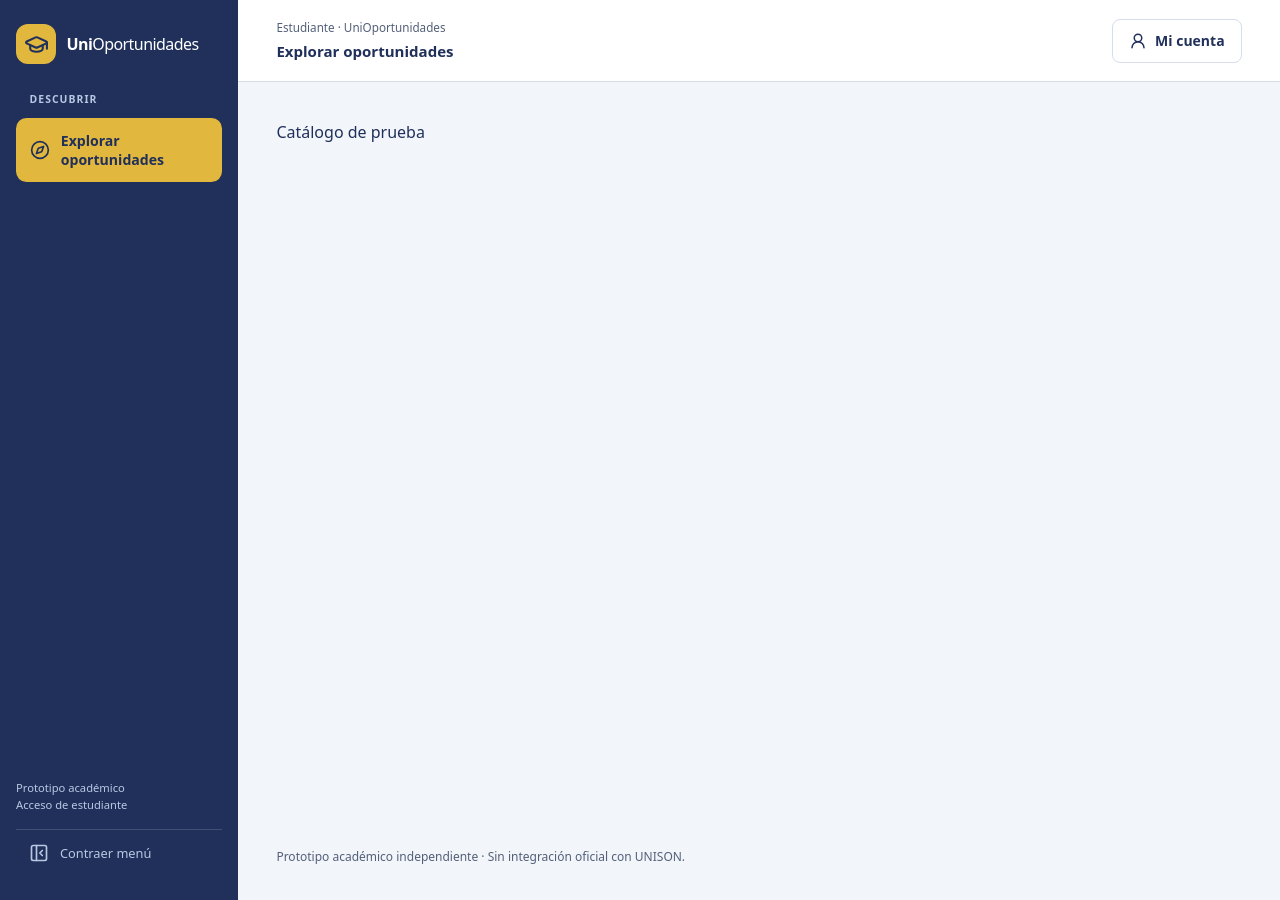
Scenario: cuenta muestra solo datos existentes y permite cerrar sesión sin página de perfil
Click the button "Mi cuenta".
click(1177, 40)  # box [1112,18,1242,62]
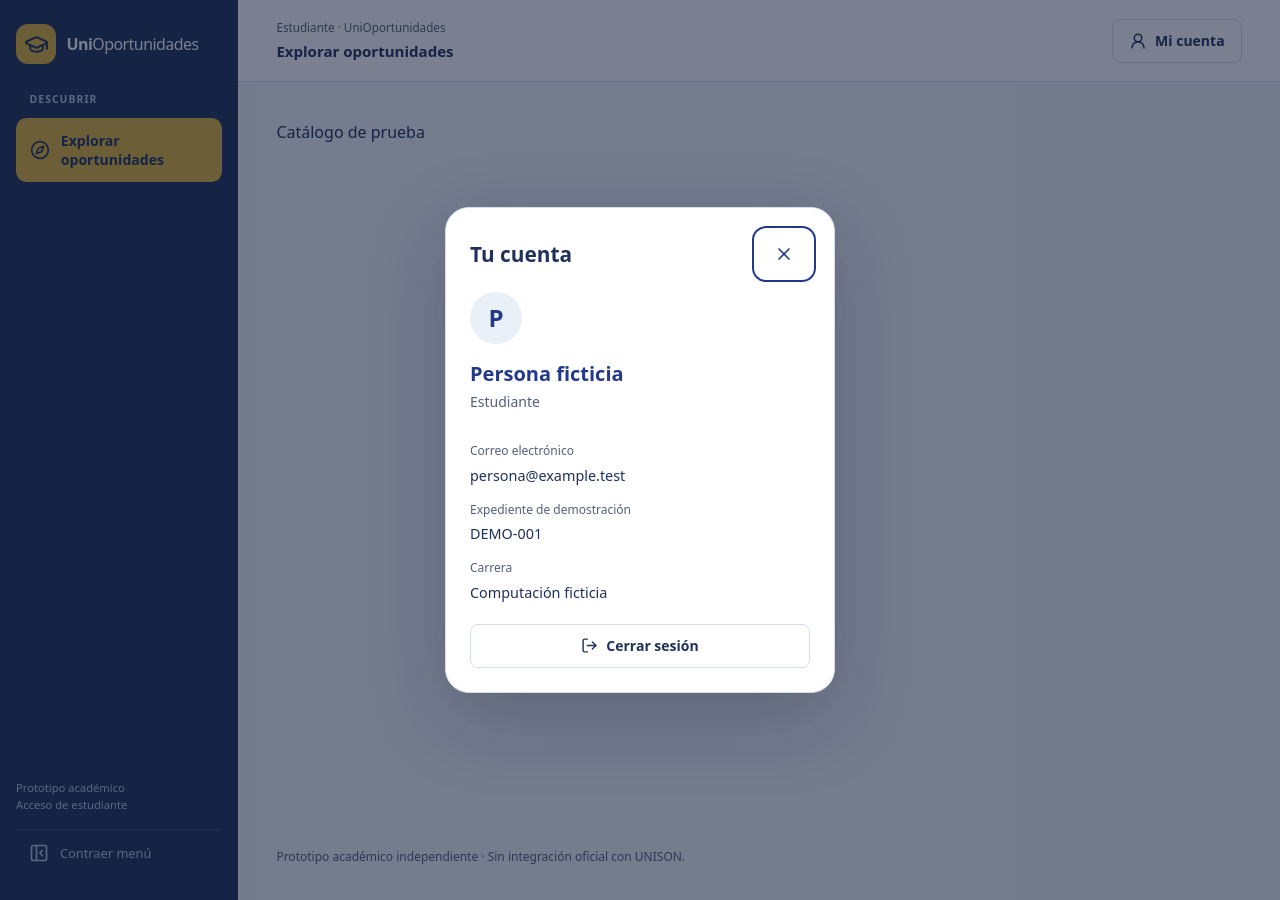
Expected: the text "DEMO-001" is shown, [470,524,542,543]
Expected: the text "persona@example.test" is shown, [470,466,625,485]
Click the button "Cerrar sesión".
click(640, 646)  # box [470,624,810,668]
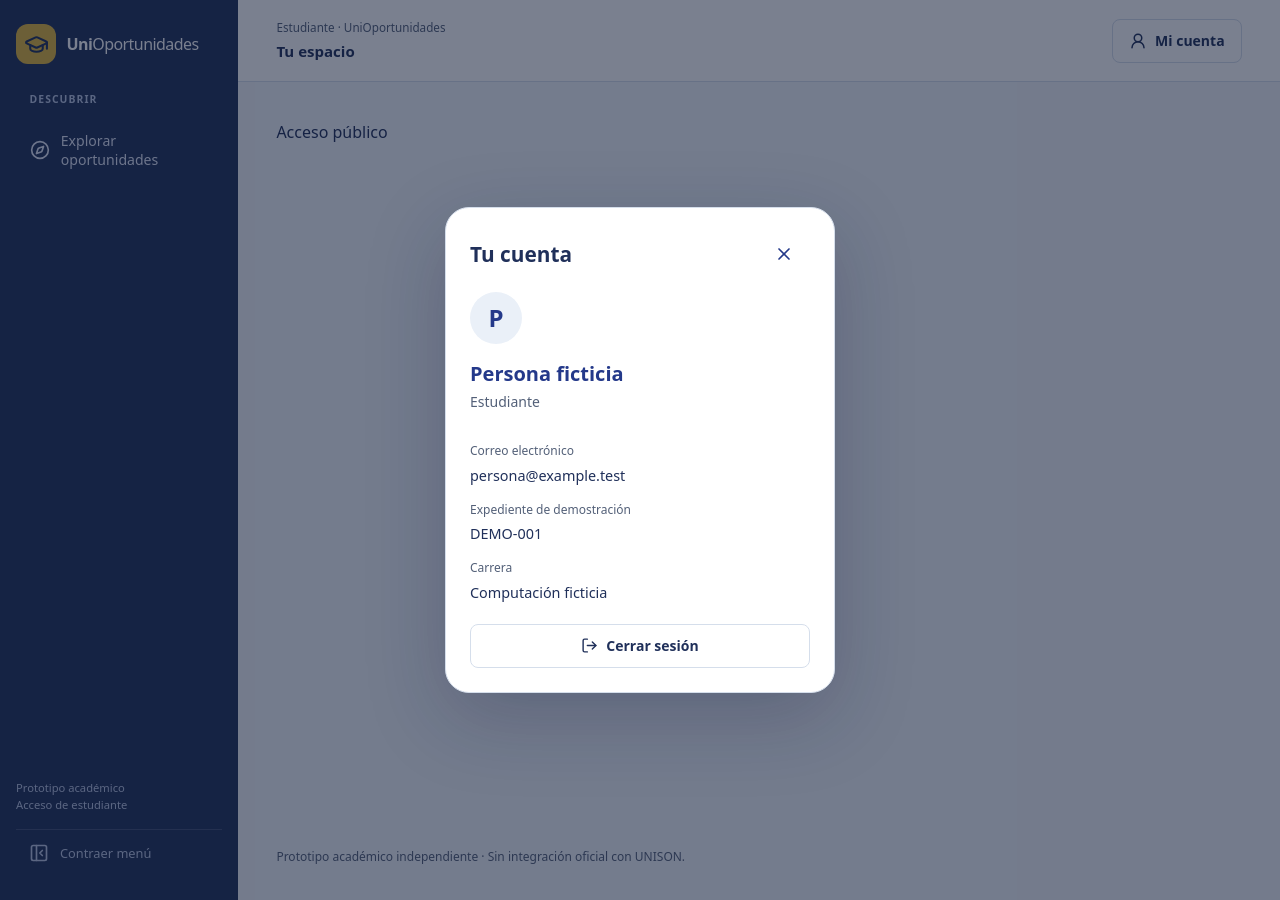
Expected: the heading "Acceso público" is shown, [276,121,388,143]
